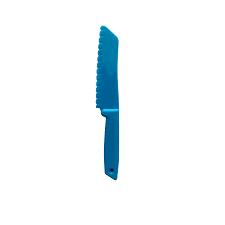Knife: (95, 24, 119, 180)
